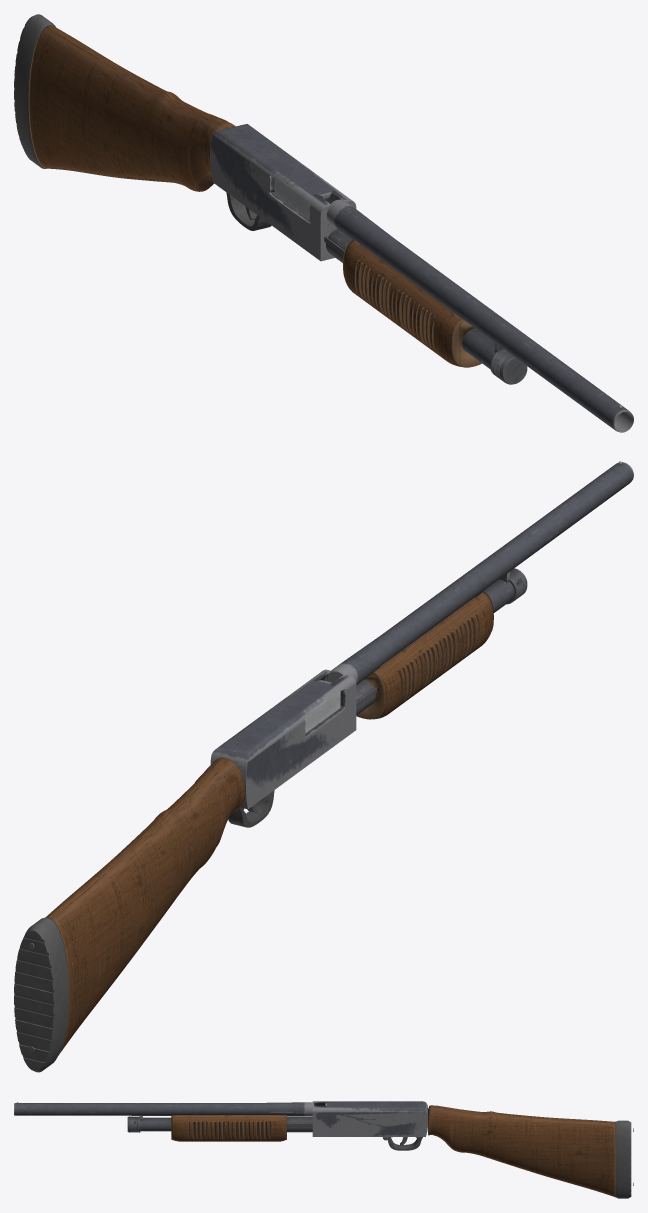
The model's file is shotgun.glb.
3 renders of one model, top to bottom at view 1: azimuth 30°, elevation 25°; view 2: azimuth 150°, elevation 25°; view 3: azimuth 270°, elevation 25°, orthographic. The views are drawn at different scales.
Parts seen in each view (by area): view 1: body, moving; view 2: body, moving; view 3: body, moving.
Boxes of the visible parts, x1=… form: body: x1=14, y1=14, x2=633, y2=432; moving: x1=324, y1=229, x2=481, y2=367; body: x1=14, y1=461, x2=633, y2=1072; moving: x1=356, y1=591, x2=493, y2=719; body: x1=14, y1=1101, x2=633, y2=1198; moving: x1=171, y1=1115, x2=312, y2=1141.
Bounding box in the file's own units: 0.045 × 0.1686 × 0.9861.
5 materials, 5 textured.
